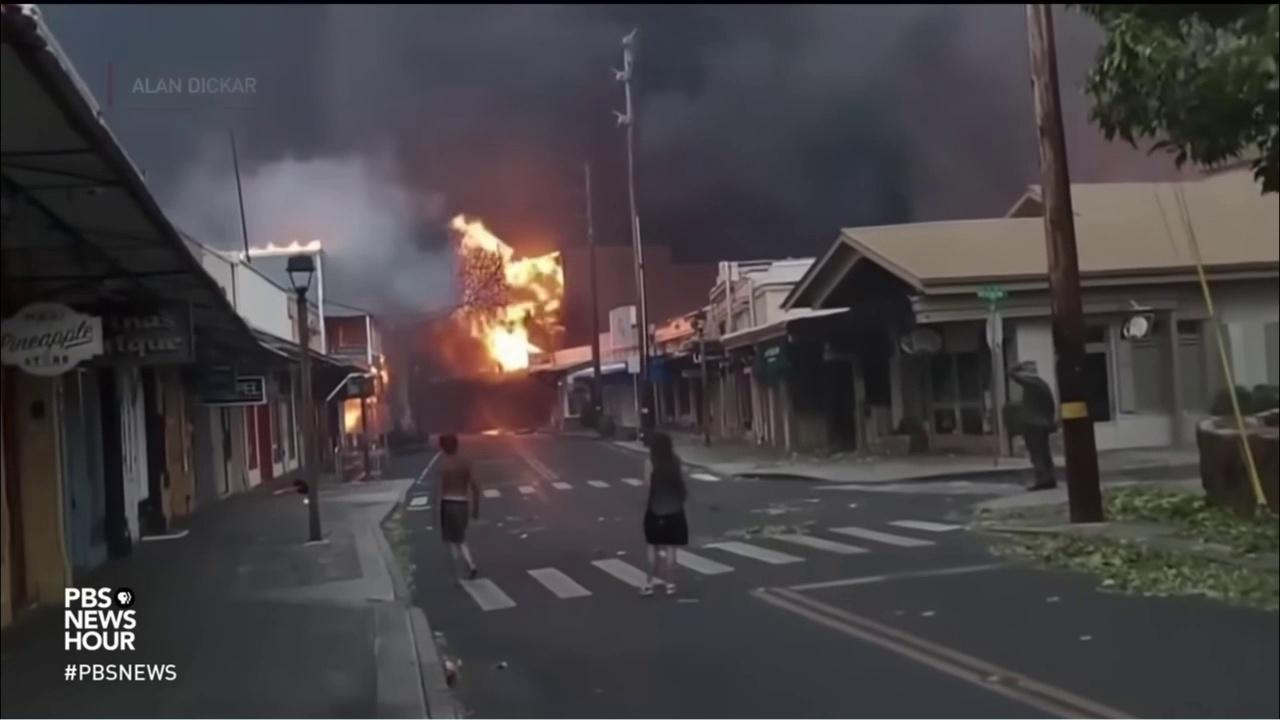fire: (444, 211, 570, 374), (477, 426, 501, 436)
smoke: (27, 4, 1206, 435)
